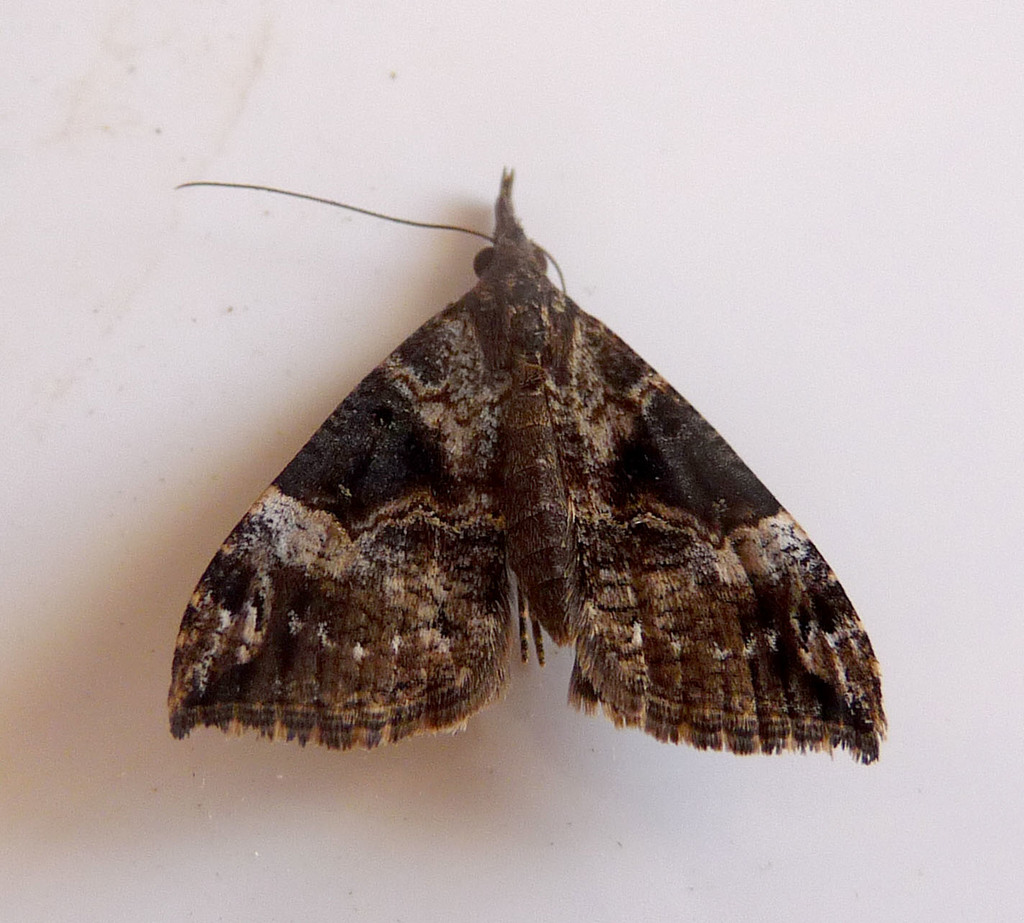Butterfly: (136, 103, 912, 807)
